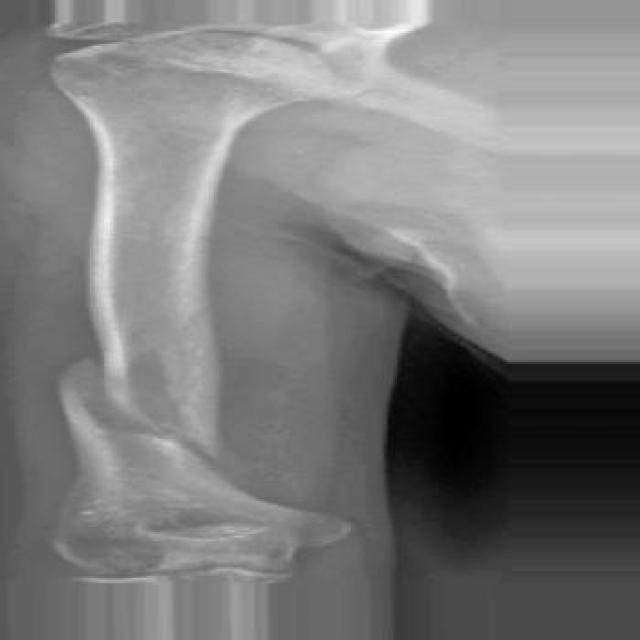Fracture: (45, 347, 248, 470)
